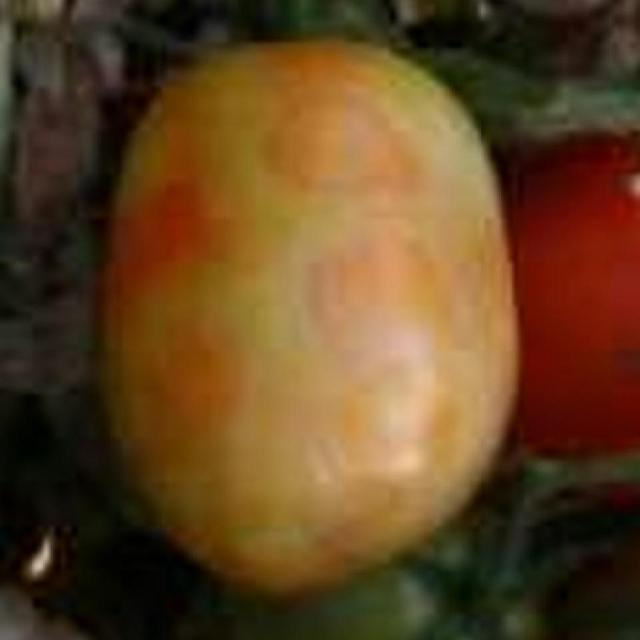Spotted wilt Virus Fruit: (46, 0, 114, 218)
